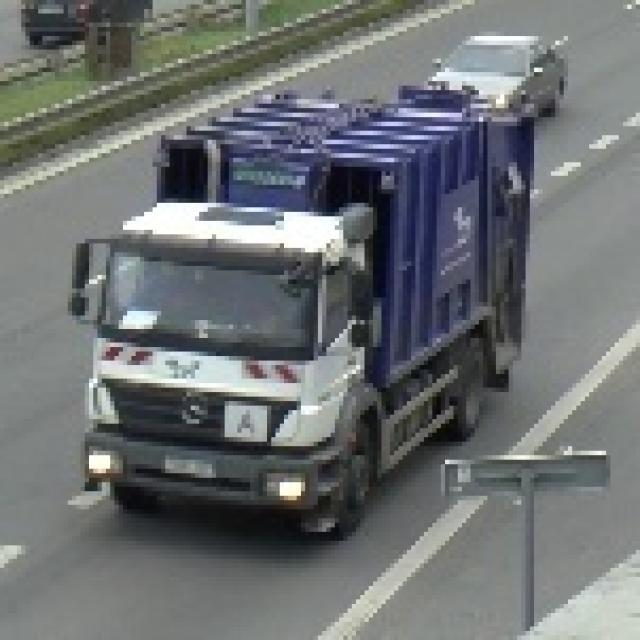truck: (63, 77, 534, 540)
